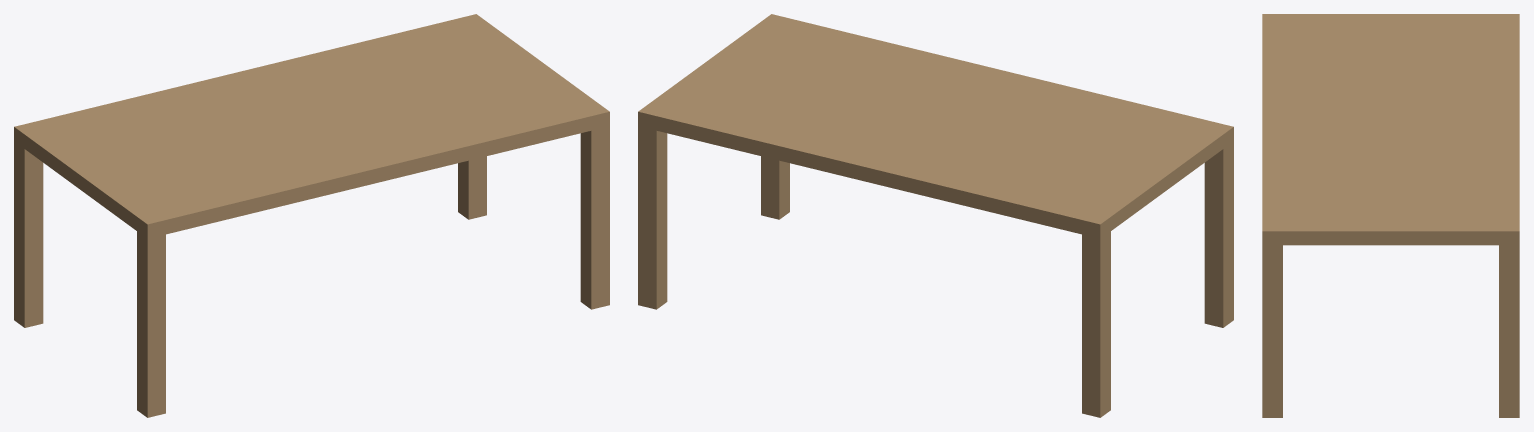
The model's file is UA_Blender_Test_Table.fbx.
3 views of the same model, side by side, from view 1: azimuth 30°, elevation 25°; view 2: azimuth 150°, elevation 25°; view 3: azimuth 270°, elevation 25° (orthographic). The views are drawn at different scales.
Visible parts, largest first — view 1: UA_Blender_Test_Table; view 2: UA_Blender_Test_Table; view 3: UA_Blender_Test_Table.
Part boxes in pixels (x1,y1,x2,y2): UA_Blender_Test_Table: (14, 14, 609, 417); UA_Blender_Test_Table: (638, 14, 1233, 417); UA_Blender_Test_Table: (1262, 14, 1519, 417).
Bounding box in the file's own units: 2 × 0.8 × 1.
